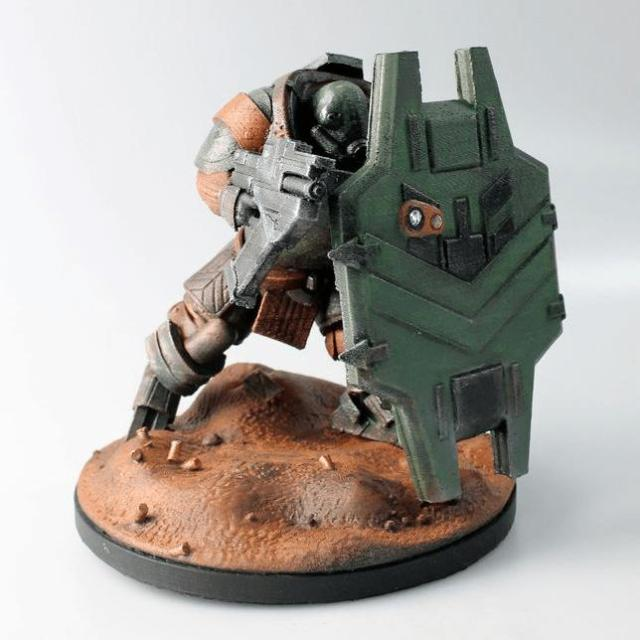Without deffect: (54, 40, 578, 618)
